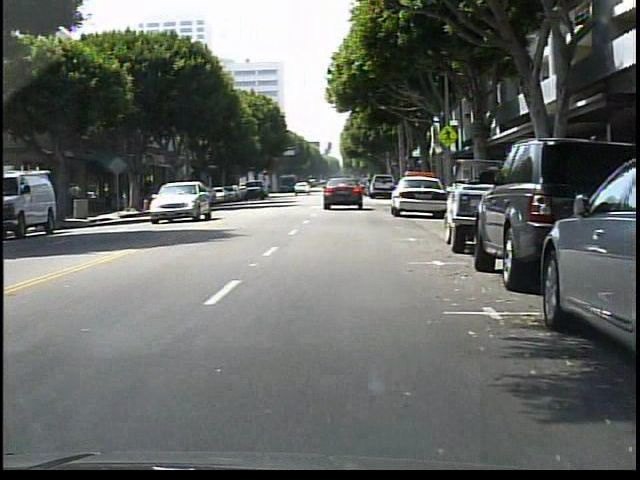person: (68, 179, 86, 221)
